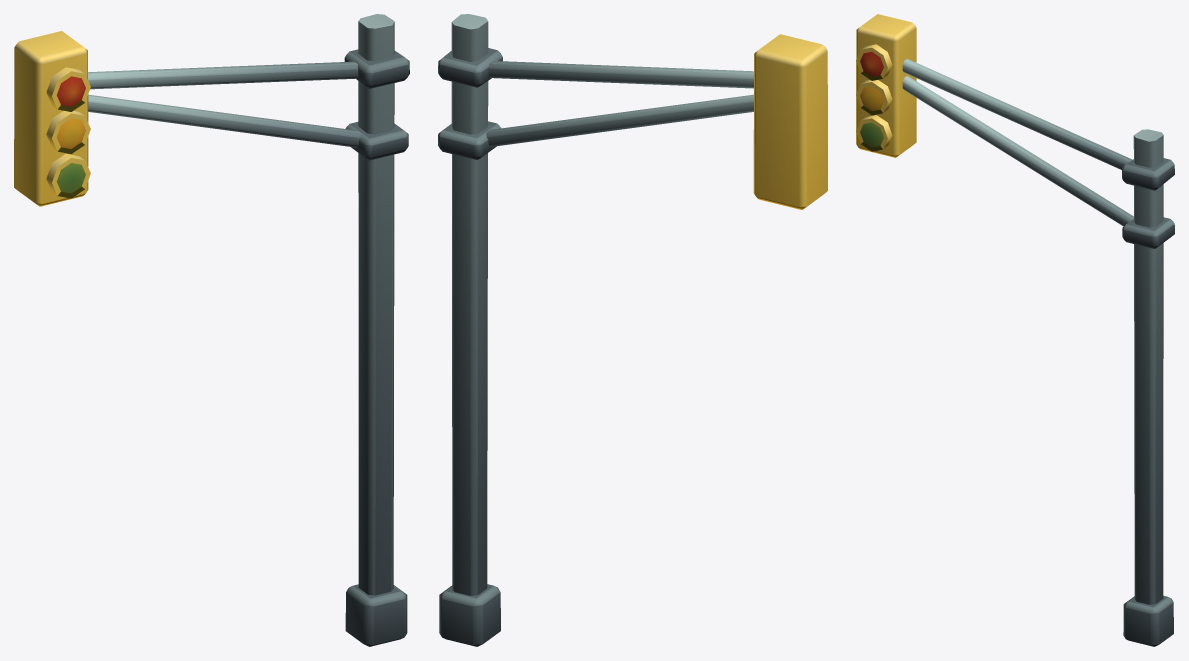
Rendered from traffic_light.fbx.
3 renders of one model, left to right at view 1: azimuth 30°, elevation 25°; view 2: azimuth 150°, elevation 25°; view 3: azimuth 330°, elevation 25°, orthographic. The views are drawn at different scales.
Visible parts, largest first — view 1: traffic_light; view 2: traffic_light; view 3: traffic_light.
Boxes of the visible parts, box(x1,y1,x2,y2) form: traffic_light: box(14, 14, 409, 646); traffic_light: box(438, 14, 827, 646); traffic_light: box(856, 14, 1174, 646).
Size of the model in its own units: 279 by 478 by 44.87.
